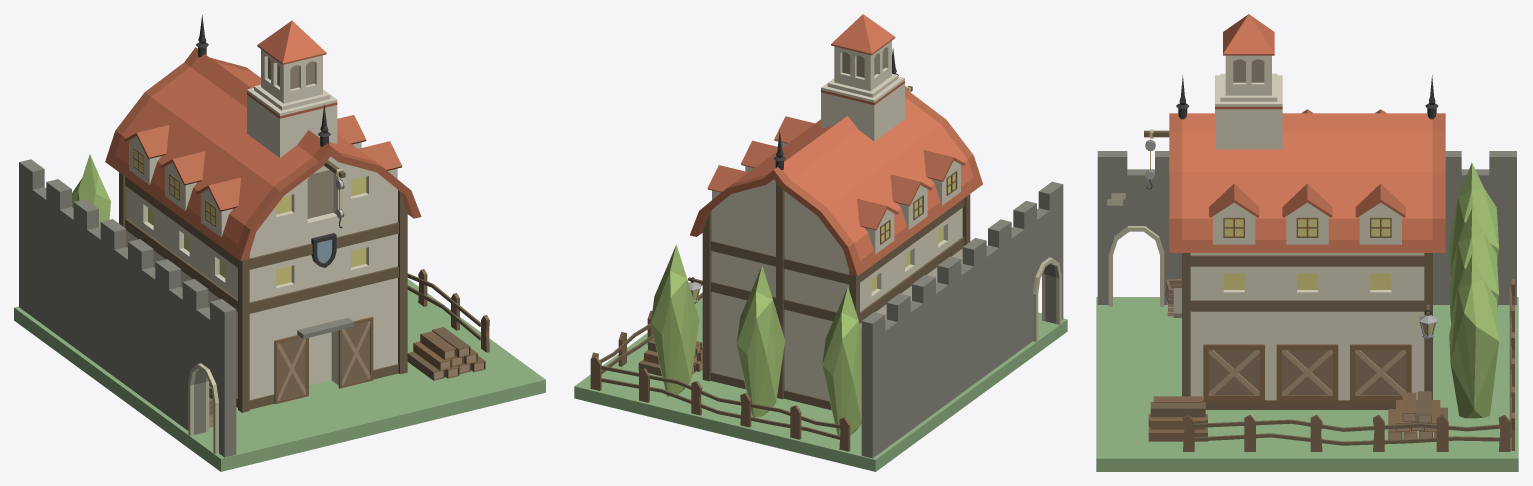
File: House_5.fbx
3 views of the same model, side by side, from view 1: azimuth 30°, elevation 25°; view 2: azimuth 150°, elevation 25°; view 3: azimuth 270°, elevation 25° (orthographic). The views are drawn at different scales.
Parts seen in each view (by area): view 1: House_5; view 2: House_5; view 3: House_5.
Boxes of the visible parts, x1,y1,x2,y2 form: House_5: [14, 15, 545, 471]; House_5: [574, 14, 1067, 471]; House_5: [1096, 14, 1518, 471].
Bounding box in the file's own units: 184 × 196 × 203.
Materials: 1 (1 with a texture image).
